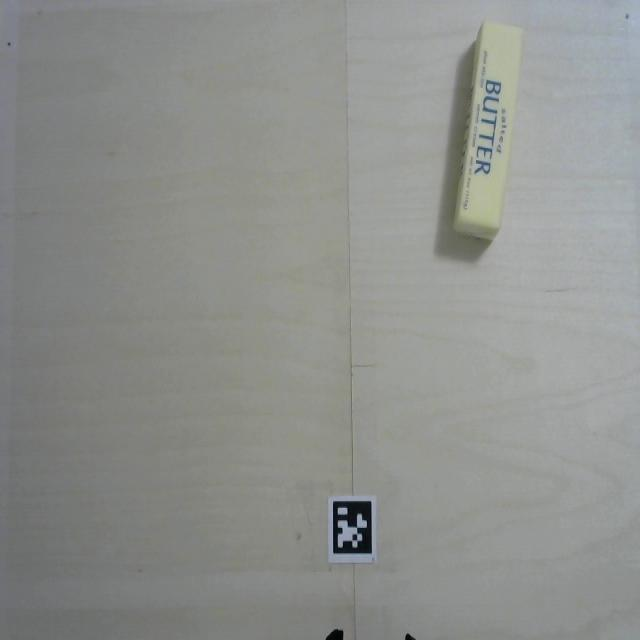butter: (439, 17, 529, 252)
